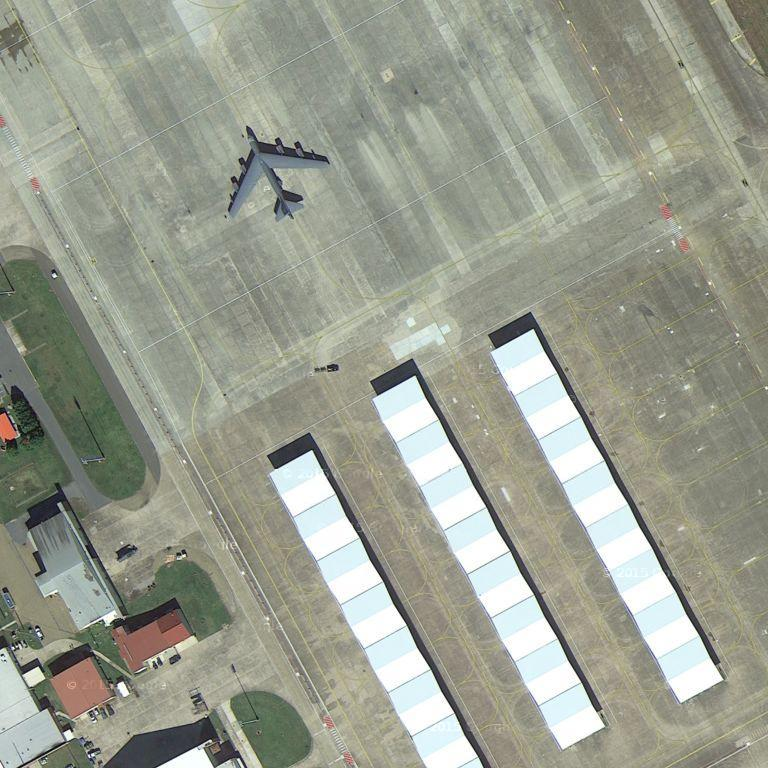B-52: (222, 127, 332, 226)
